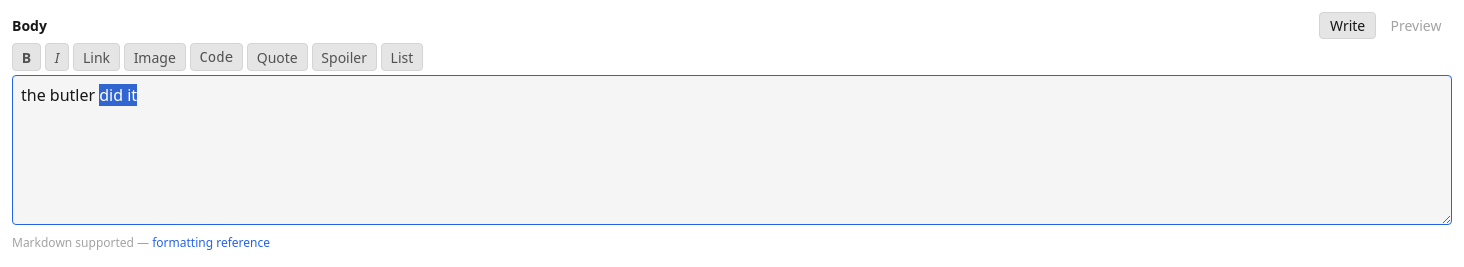
it: MarkdownEditor › toolbar insertion › inserts a spoiler
Click the button with aria-label "Spoiler (click to reveal)" at (344, 57), box [312, 43, 377, 71]
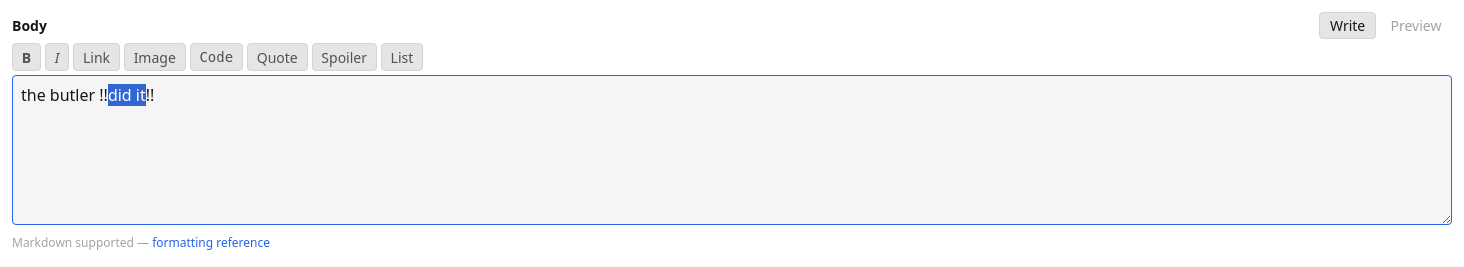
Result: the text box labelled "Body" holds "the butler !!did it!!" at [12, 75, 1452, 225]
